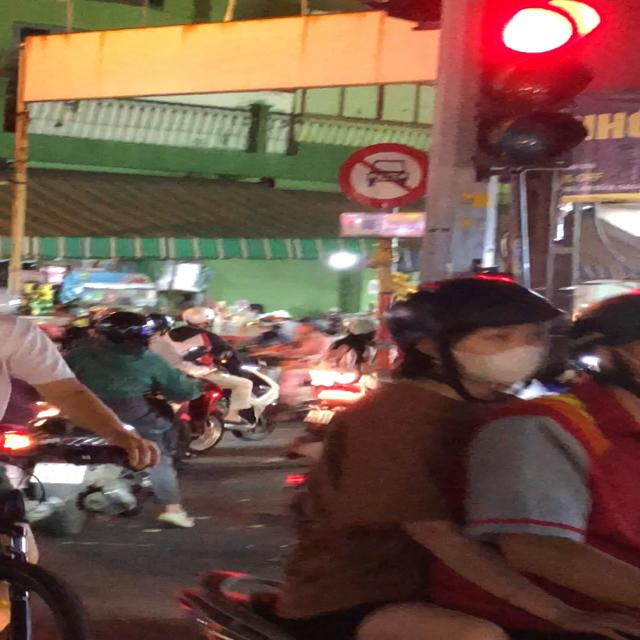Bien bao cam xe oto: (332, 142, 446, 212)
